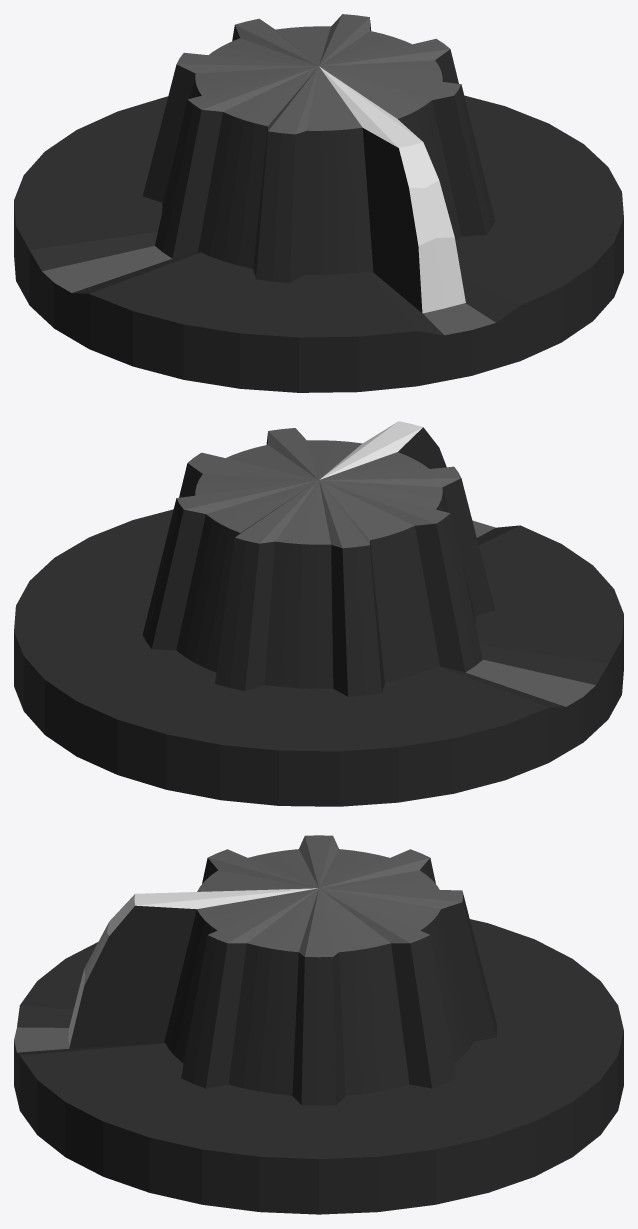
Rendered from dial2_fbx.fbx.
3 views of the same model, one above another, from view 1: azimuth 30°, elevation 25°; view 2: azimuth 150°, elevation 25°; view 3: azimuth 270°, elevation 25° (orthographic).
Parts seen in each view (by area): view 1: Base, Rotator; view 2: Base, Rotator; view 3: Base, Rotator.
Part boxes in pixels (x1,y1,x2,y2): Base: (14,95,623,392); Rotator: (143,14,495,313); Base: (14,509,623,806); Rotator: (142,421,495,696); Base: (14,919,623,1214); Rotator: (68,835,497,1105).
Bounding box in the file's own units: 200 × 71.41 × 200.
1 material, 1 textured.
